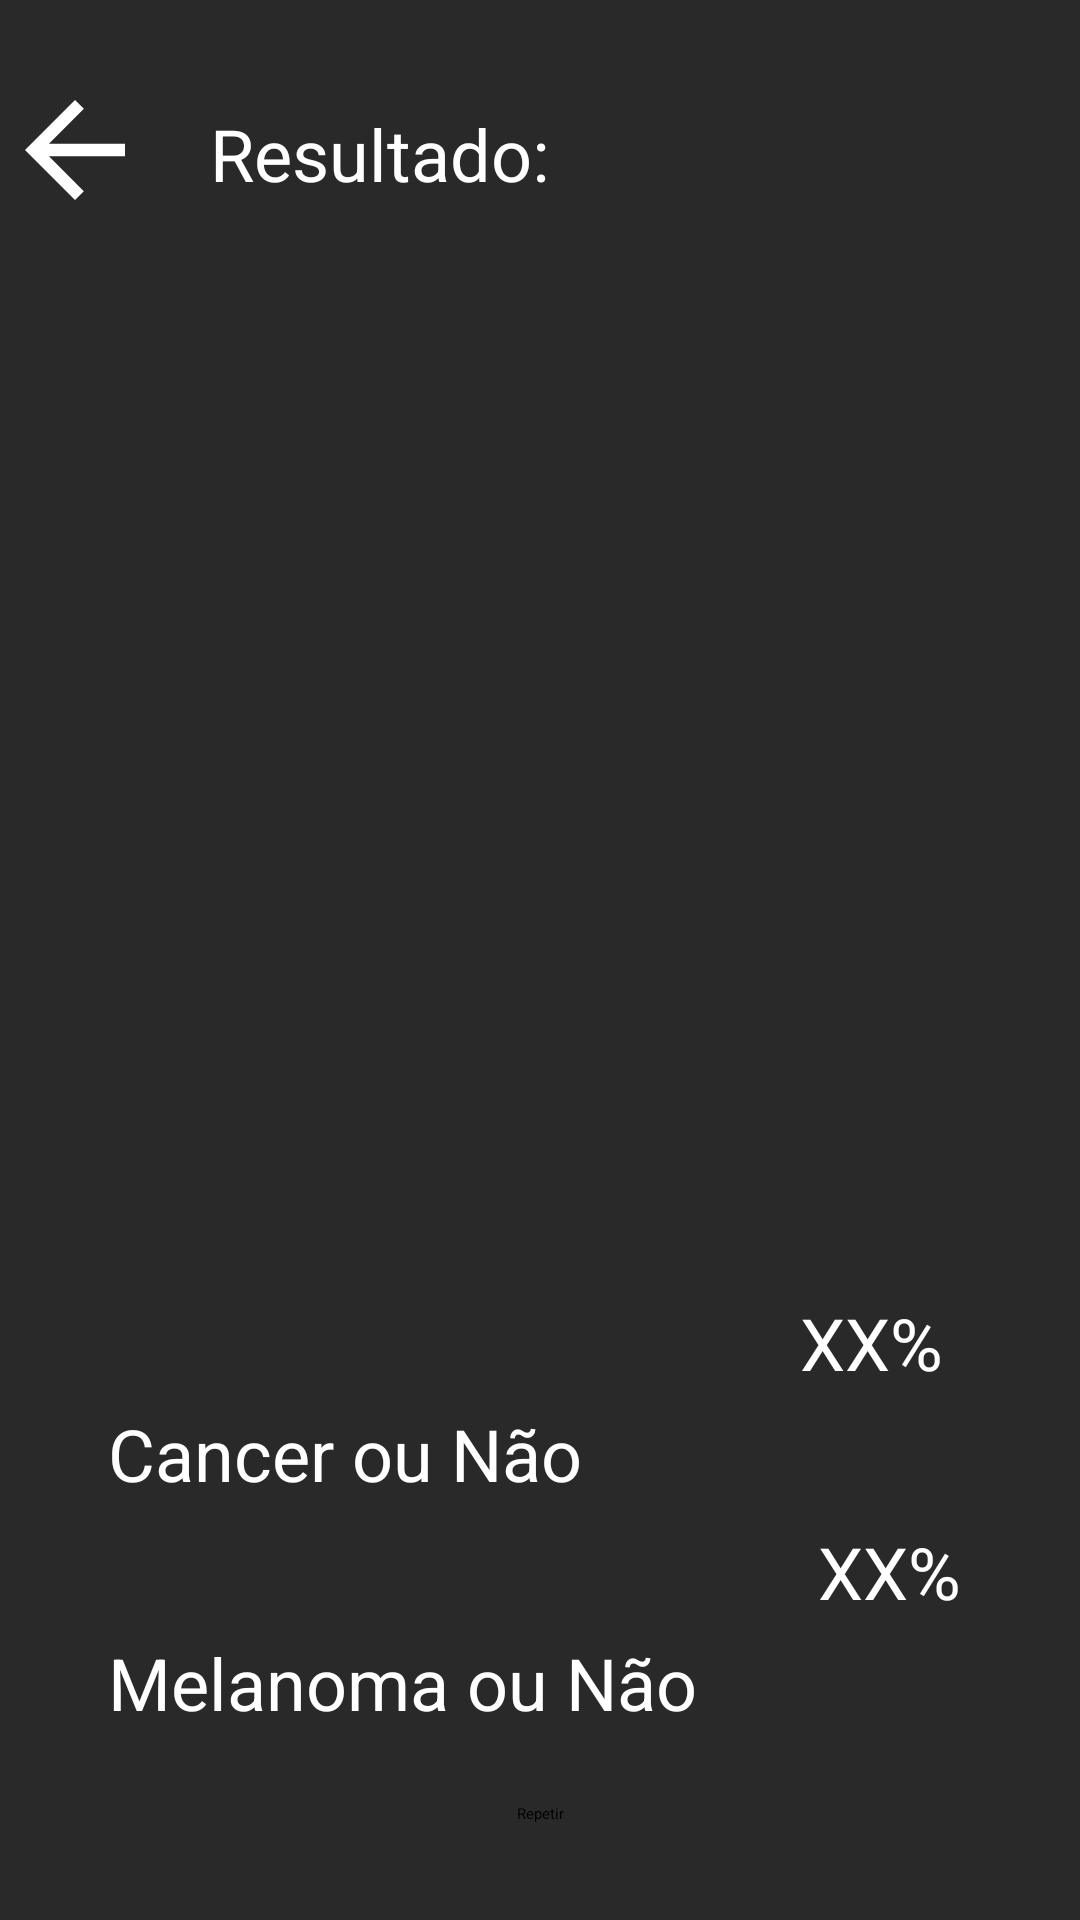

Named icons in this screenshot (1080px x 1920px) and their bounding boxes, (left=x1, top=y1, right=x2, bottom=y2):
arrow back: (left=25, top=100, right=125, bottom=200)
